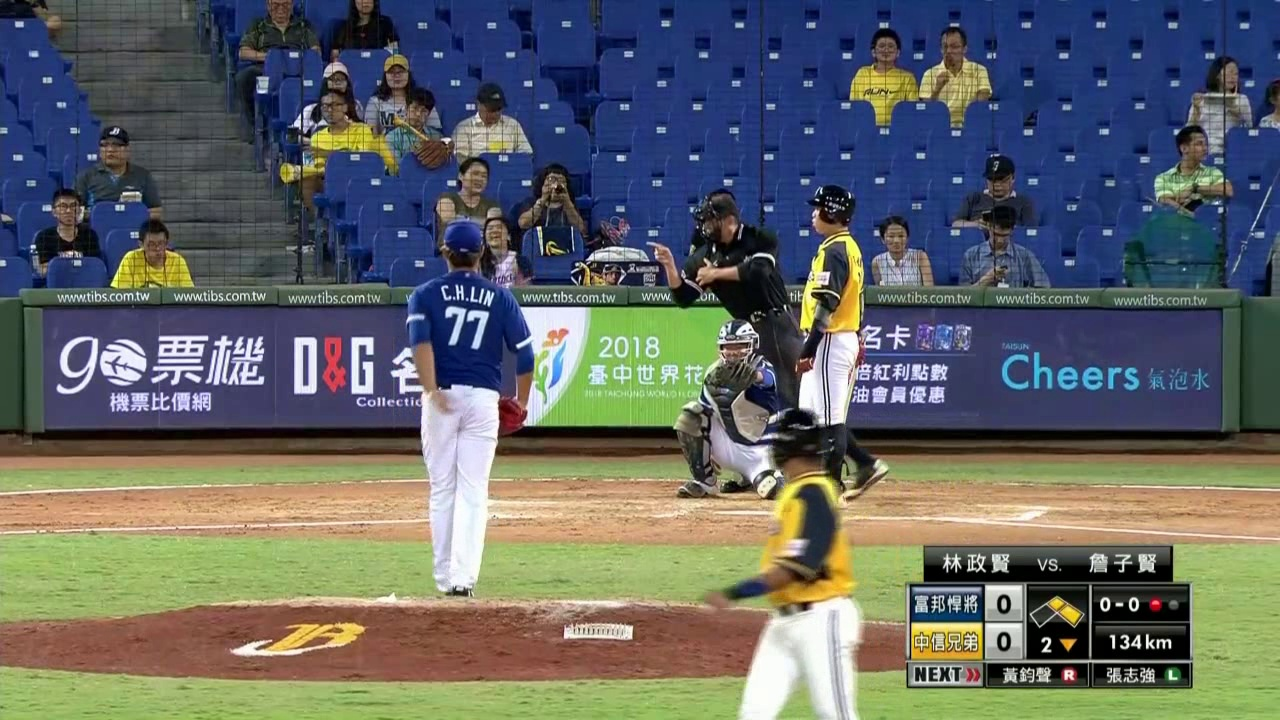base: (1029, 594, 1086, 630)
bat: (840, 331, 871, 433)
out: (1146, 589, 1184, 621)
score1: (986, 587, 1021, 618)
score2: (987, 624, 1021, 656)
session: (1028, 631, 1084, 658)
speed: (1096, 628, 1185, 658)
strikeball: (1091, 588, 1144, 619)
